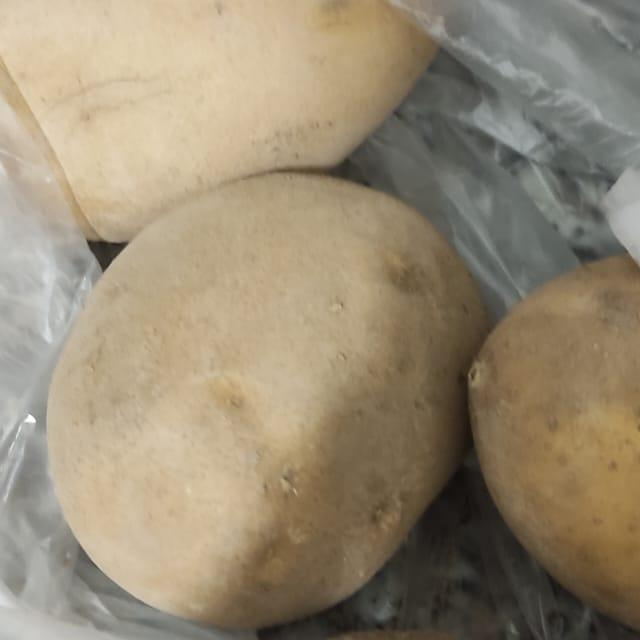potato: (31, 149, 498, 623), (0, 0, 471, 212), (448, 205, 640, 640)
